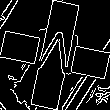M_S: (27, 25, 83, 85)
